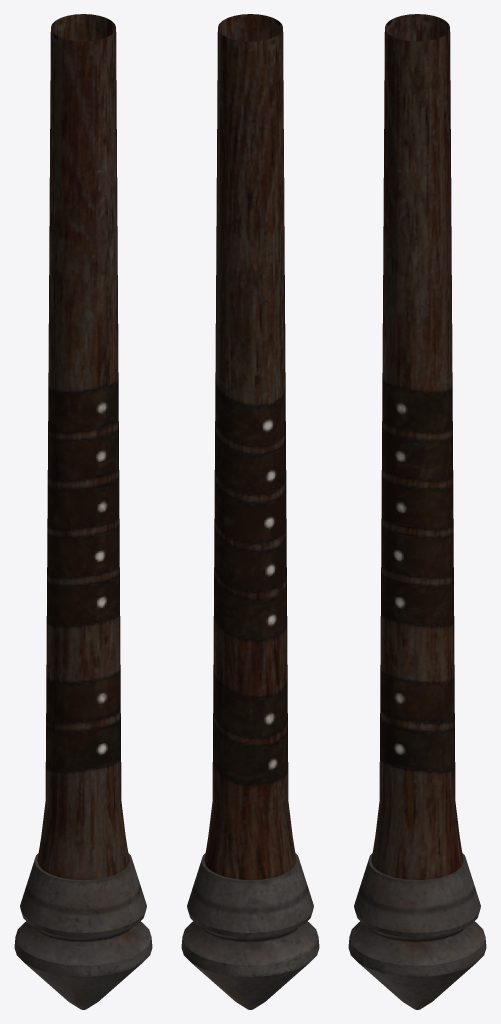
Rendered from wm_dol_goldur_1h_mace_a02_handle.fbx.
The picture shows the model from 3 angles, left to right: view 1: azimuth 30°, elevation 25°; view 2: azimuth 210°, elevation 25°; view 3: azimuth 330°, elevation 25°; orthographic projection.
Parts seen in each view (by area): view 1: wm_dol_goldur_1h_mace_a02_handle; view 2: wm_dol_goldur_1h_mace_a02_handle; view 3: wm_dol_goldur_1h_mace_a02_handle.
Boxes of the visible parts, <box> form: wm_dol_goldur_1h_mace_a02_handle: <box>14,14,152,1009</box>; wm_dol_goldur_1h_mace_a02_handle: <box>181,14,319,1009</box>; wm_dol_goldur_1h_mace_a02_handle: <box>348,14,486,1009</box>.
Bounding box in the file's own units: 0.0694 × 0.0694 × 0.5444.
1 material, 1 textured.
